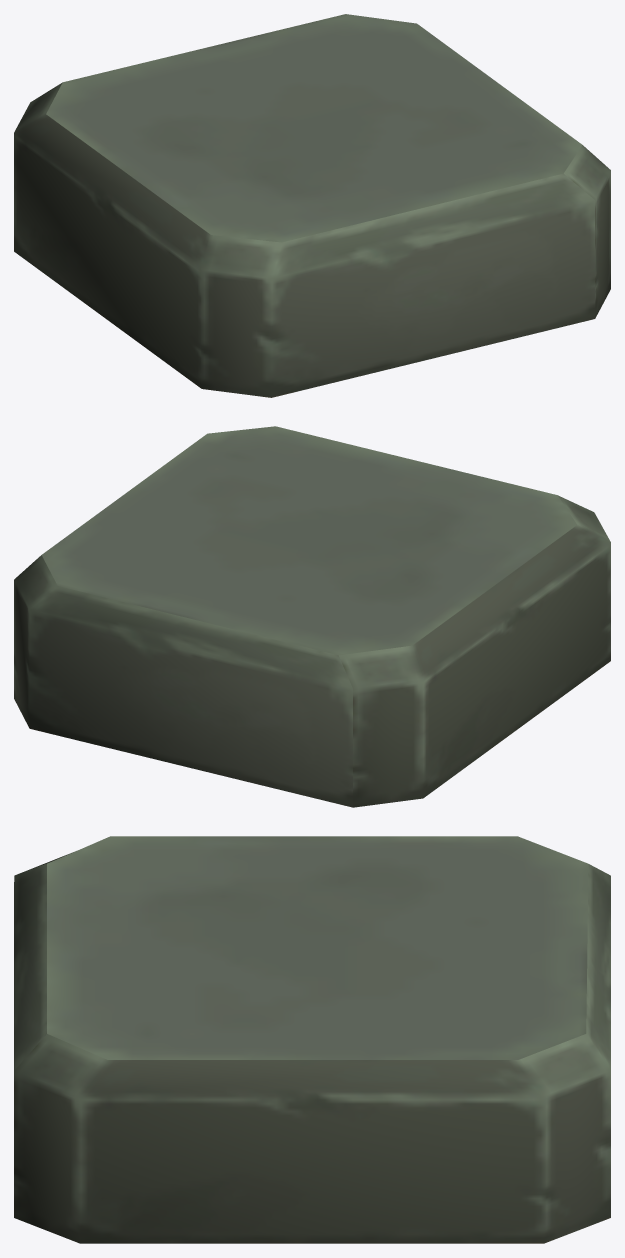
Rendered from yw_shanlin_postamong_002.FBX.
The picture shows the model from 3 angles, top to bottom: view 1: azimuth 30°, elevation 25°; view 2: azimuth 150°, elevation 25°; view 3: azimuth 270°, elevation 25°; orthographic projection. The views are drawn at different scales.
Visible parts, largest first — view 1: yw_shanlin_postamong_002; view 2: yw_shanlin_postamong_002; view 3: yw_shanlin_postamong_002.
Part boxes in pixels (x1,y1,x2,y2): yw_shanlin_postamong_002: [14, 14, 610, 397]; yw_shanlin_postamong_002: [14, 426, 610, 807]; yw_shanlin_postamong_002: [14, 836, 610, 1243].
Size of the model in its own units: 32.27 by 32.95 by 10.55.
